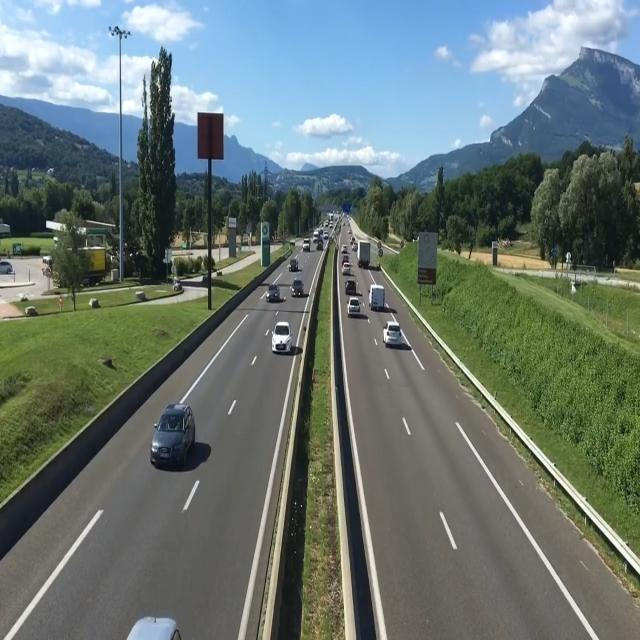Car: (150, 402, 196, 468), (271, 321, 293, 354), (382, 320, 402, 347), (266, 284, 281, 302), (348, 297, 362, 315), (290, 279, 304, 297), (0, 261, 13, 274), (345, 280, 356, 294), (288, 258, 298, 272), (342, 262, 352, 275), (302, 243, 310, 252), (341, 244, 348, 253), (342, 255, 349, 264), (352, 241, 358, 251), (323, 232, 329, 240)
Truck: (356, 239, 371, 269), (369, 284, 385, 311), (313, 231, 320, 243)
